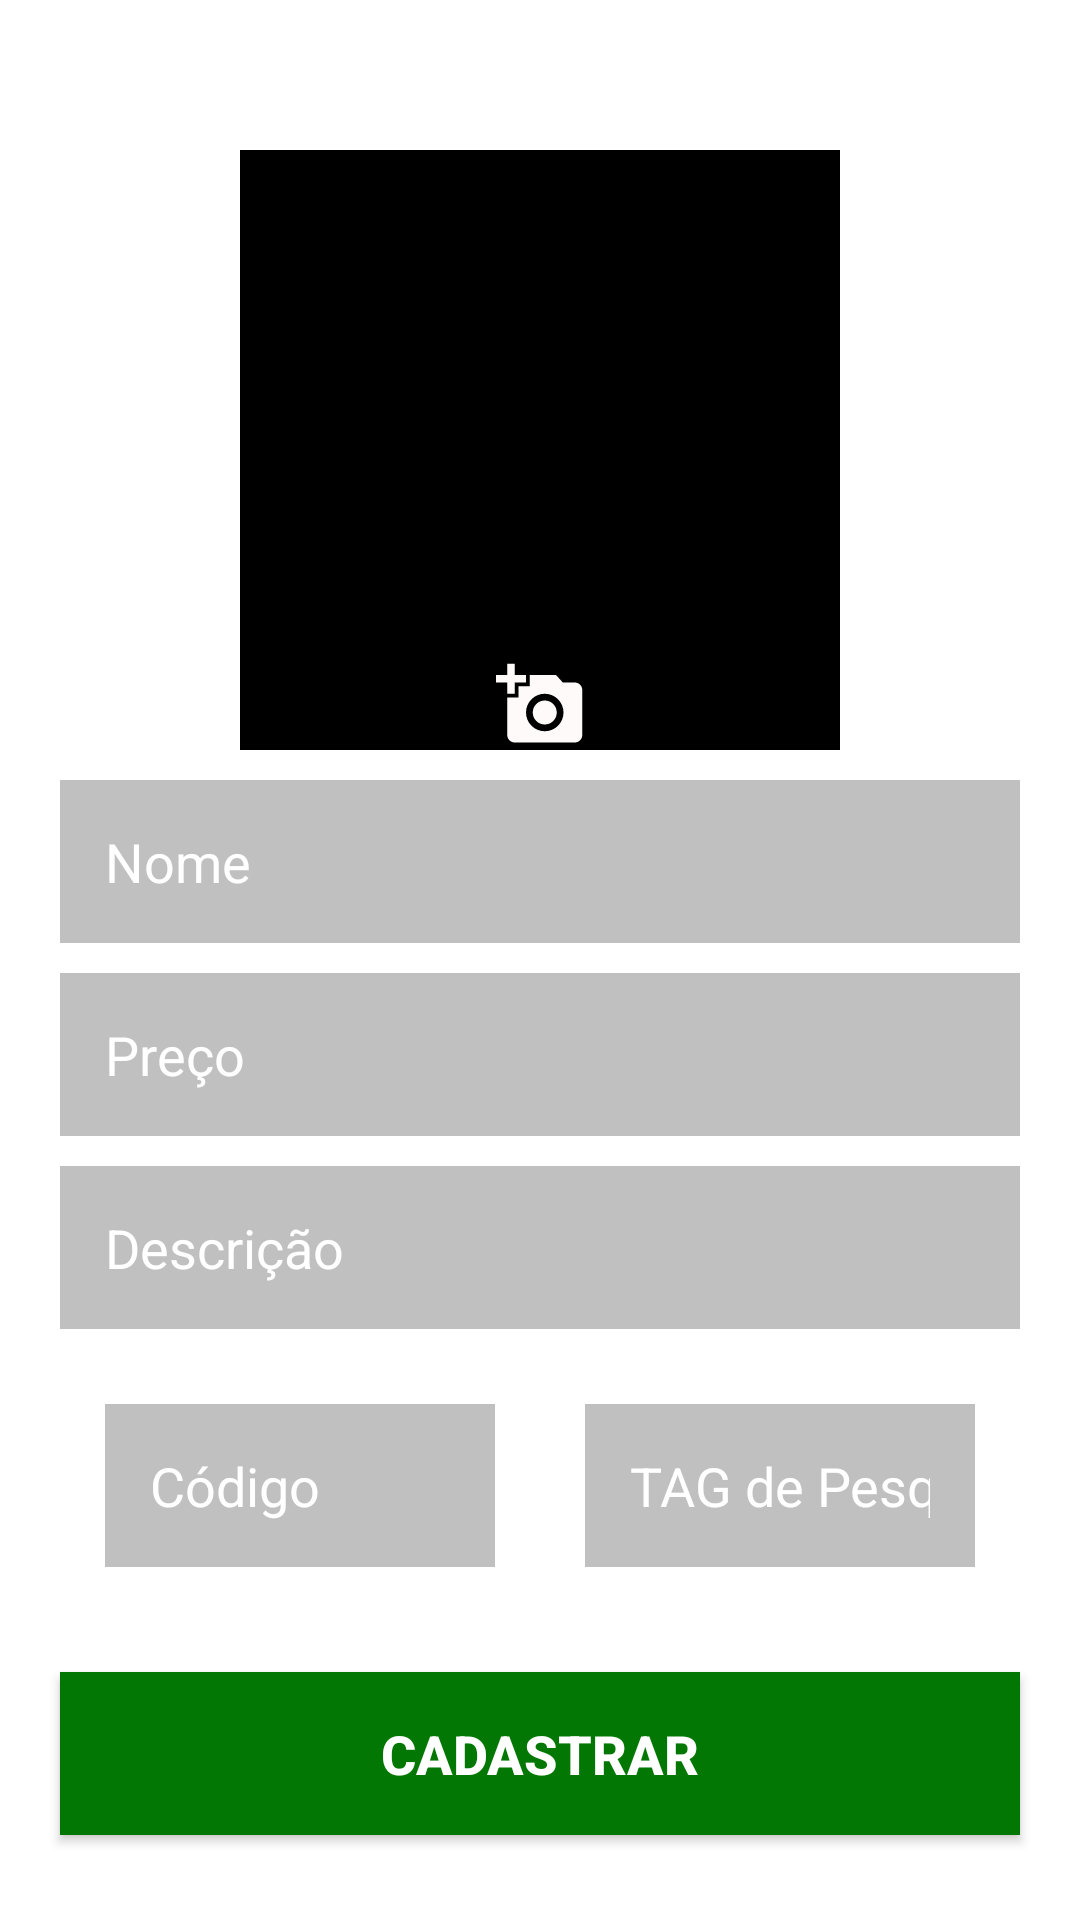

Icons on this 1080 × 1920 Android screen, each with the point to tap as (x=x, y=y):
adcfoto: (x=539, y=703)
